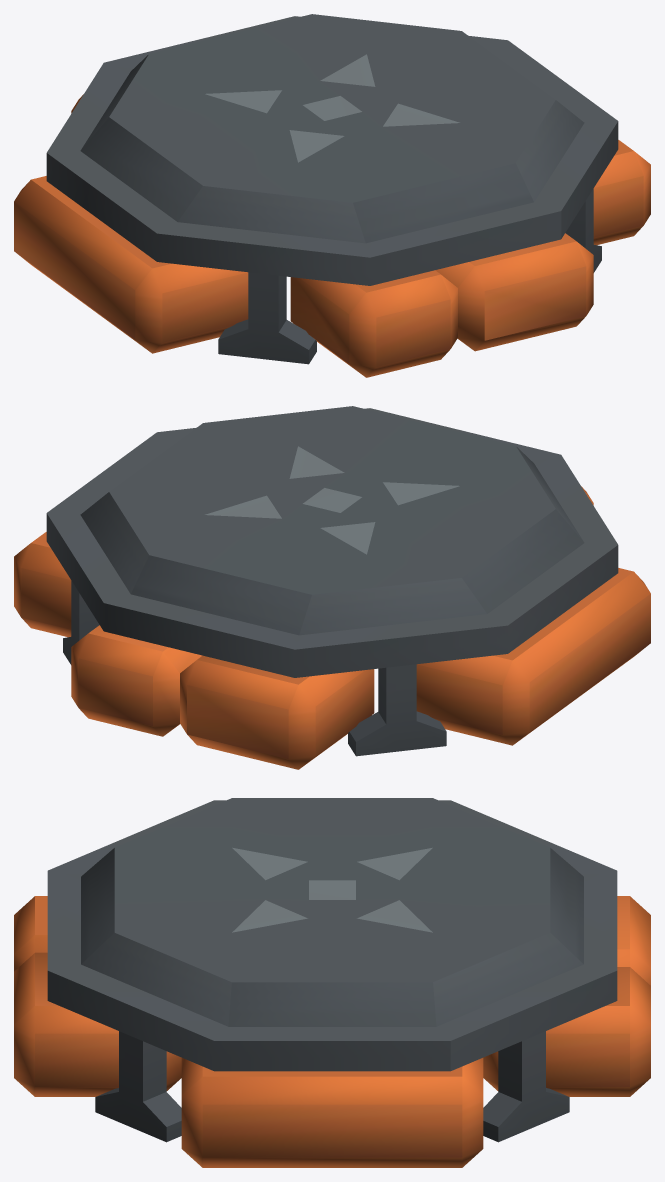
File: landingpad_small.glb
3 views of the same model, one above another, from view 1: azimuth 30°, elevation 25°; view 2: azimuth 150°, elevation 25°; view 3: azimuth 270°, elevation 25° (orthographic). The views are drawn at different scales.
Visible parts, largest first — view 1: landingpad_small; view 2: landingpad_small; view 3: landingpad_small.
Part boxes in pixels (box(x1,y1,x2,y2)): landingpad_small: box(14, 14, 650, 377); landingpad_small: box(14, 406, 650, 769); landingpad_small: box(14, 798, 650, 1167).
Bounding box in the file's own units: 1.9 × 0.5001 × 1.9.
1 material, 1 textured.
